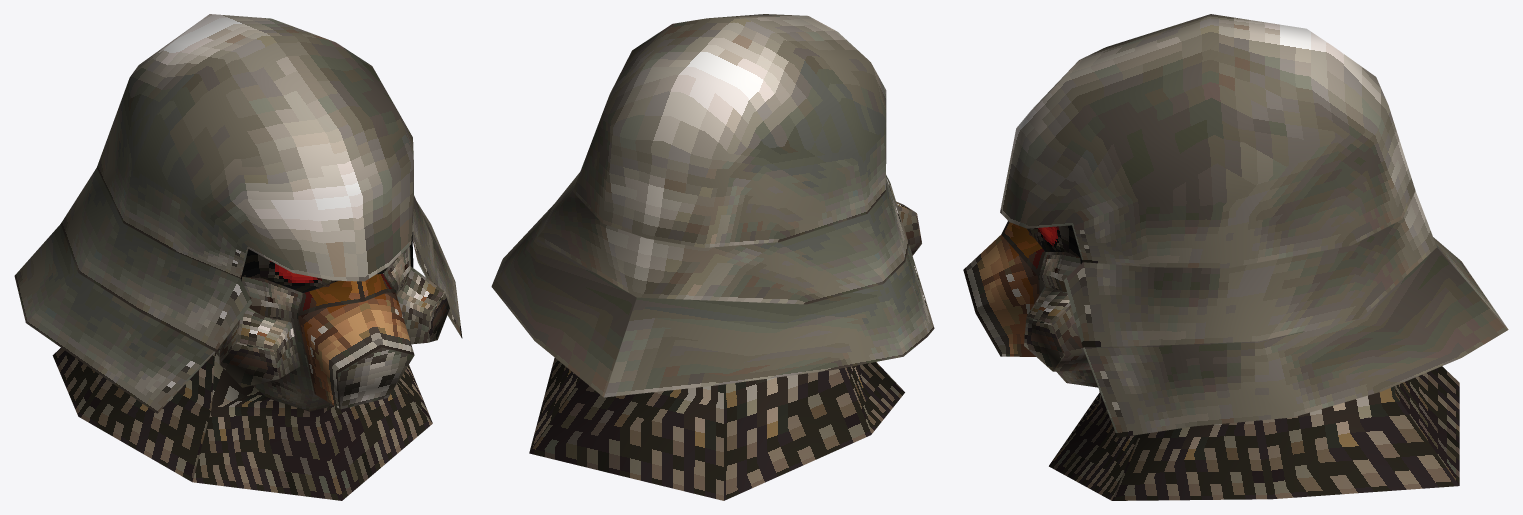
Rendered from m_hair043.glb.
The picture shows the model from 3 angles, left to right: view 1: azimuth 30°, elevation 25°; view 2: azimuth 150°, elevation 25°; view 3: azimuth 270°, elevation 25°; orthographic projection. The views are drawn at different scales.
Bounding box in the file's own units: 30.22 × 29.11 × 32.74.
Materials: 1 (1 with a texture image).
